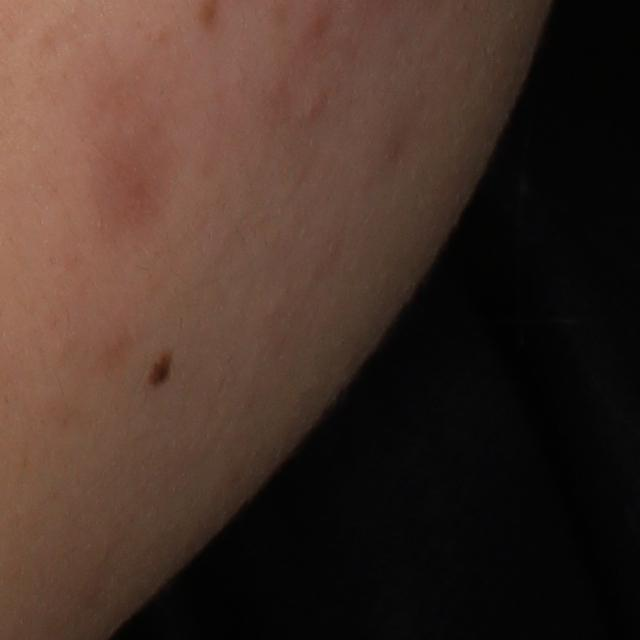nevus: (149, 352, 174, 383)
